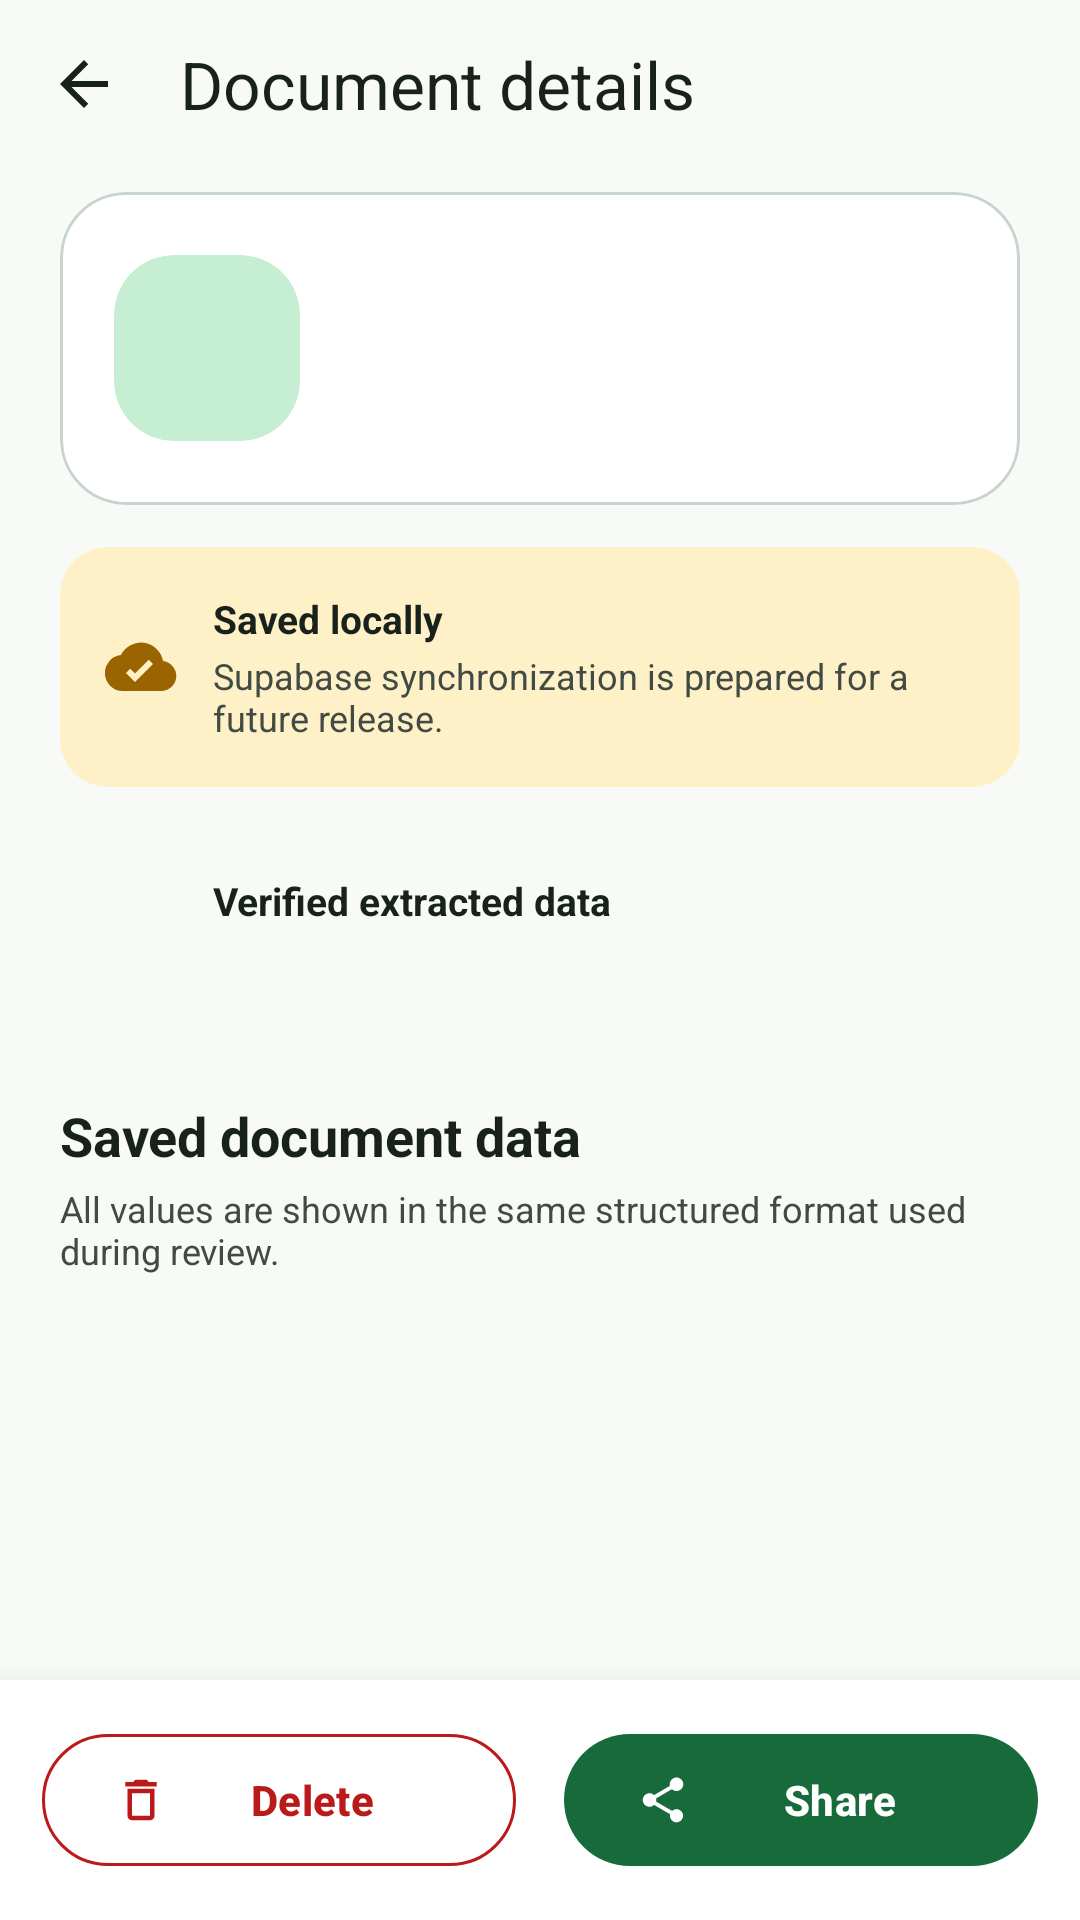

Where icons sit on this 1080w x 1920h app screen, as (x1, y1, x2, y2):
Local save status: (105, 642, 177, 691)
